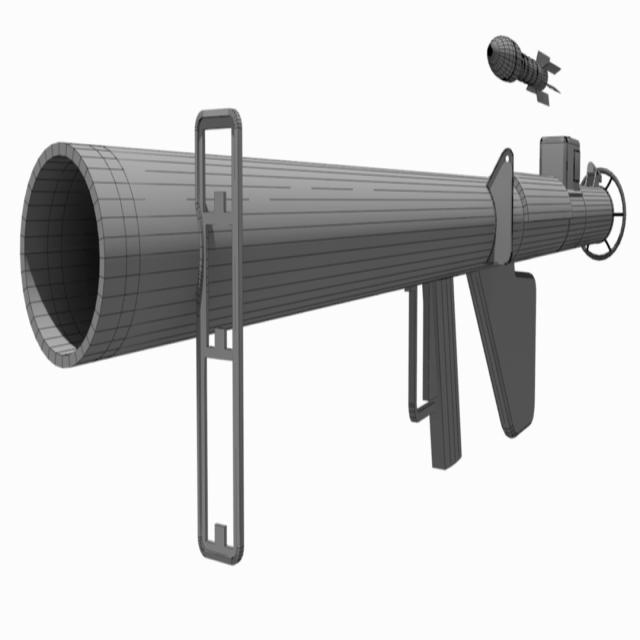Lancher: (22, 52, 634, 516)
